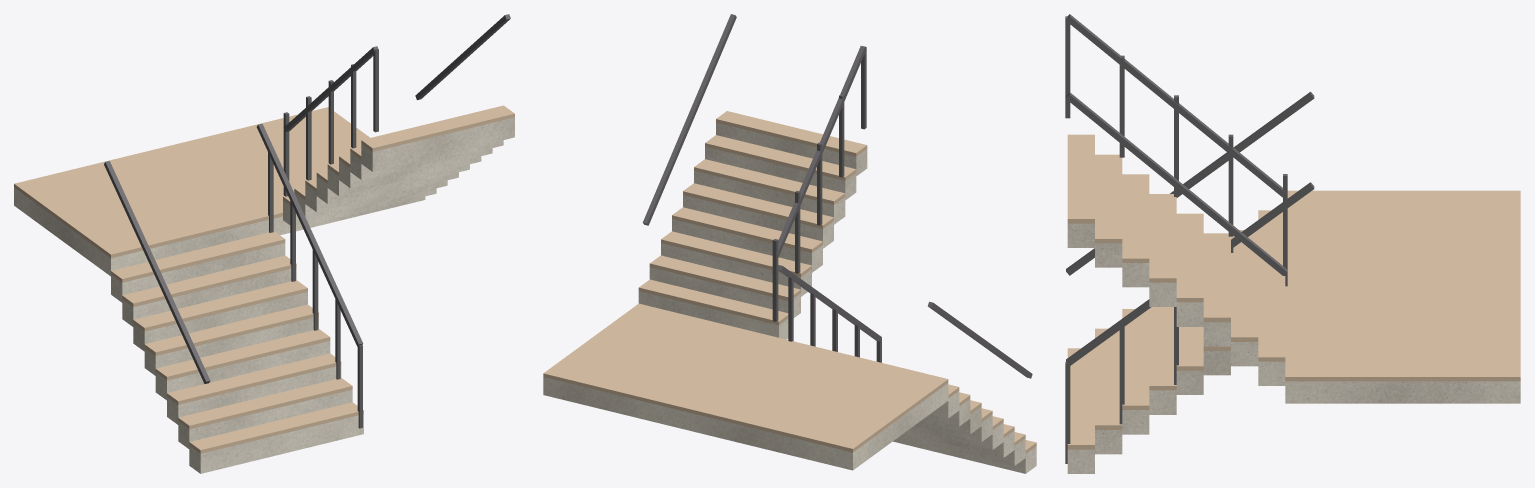
Rendered from stairs_u_3m2_192_168.glb.
3 renders of one model, left to right at view 1: azimuth 30°, elevation 25°; view 2: azimuth 150°, elevation 25°; view 3: azimuth 270°, elevation 25°, orthographic. The views are drawn at different scales.
Parts seen in each view (by area): view 1: stairs_u_3m2_192_168_floor, stairs_u_3m2_192_168_plaster, stairs_u_3m2_192_168_iron; view 2: stairs_u_3m2_192_168_floor, stairs_u_3m2_192_168_plaster, stairs_u_3m2_192_168_iron; view 3: stairs_u_3m2_192_168_floor, stairs_u_3m2_192_168_plaster, stairs_u_3m2_192_168_iron.
Part boxes in pixels (x1,y1,x2,y2): stairs_u_3m2_192_168_floor: (14, 105, 514, 453); stairs_u_3m2_192_168_plaster: (14, 117, 514, 473); stairs_u_3m2_192_168_iron: (104, 14, 510, 428); stairs_u_3m2_192_168_floor: (543, 111, 1036, 453); stairs_u_3m2_192_168_plaster: (543, 122, 1036, 473); stairs_u_3m2_192_168_iron: (642, 14, 1032, 378); stairs_u_3m2_192_168_floor: (1067, 134, 1520, 449); stairs_u_3m2_192_168_plaster: (1067, 223, 1520, 473); stairs_u_3m2_192_168_iron: (1065, 14, 1314, 463).
Size of the model in its own units: 3.6 by 4.2 by 3.72.
Materials: 3 (1 with a texture image).
